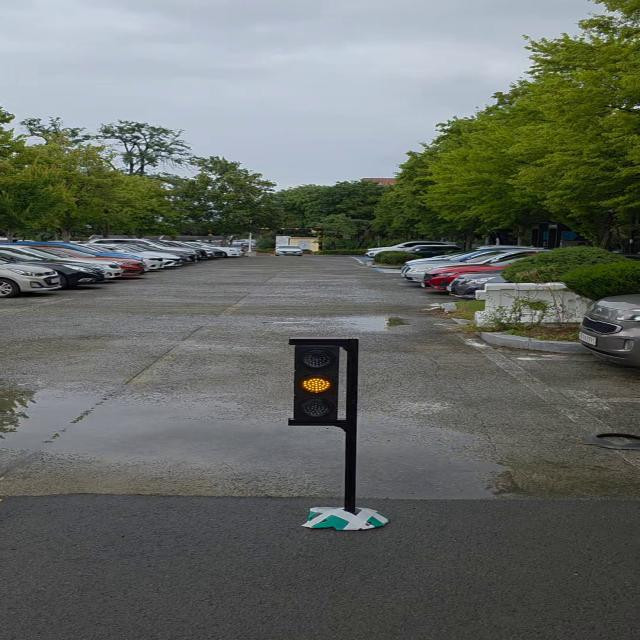yellow: (296, 344, 340, 428)
